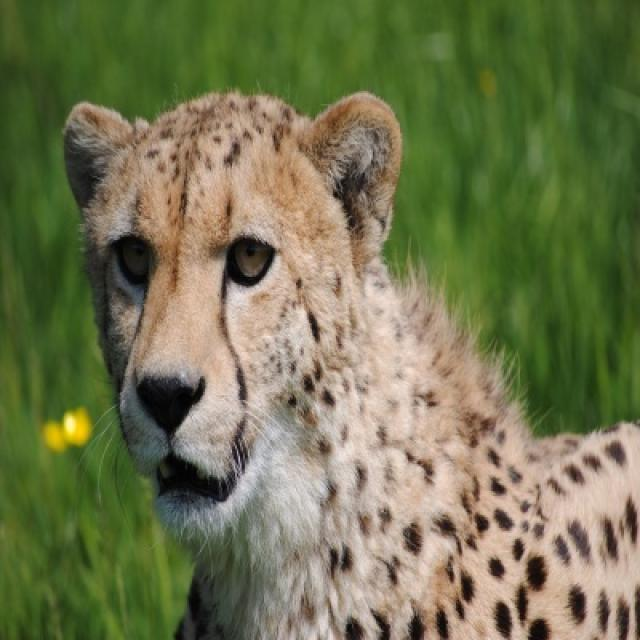Cheetah: (61, 91, 638, 638)
